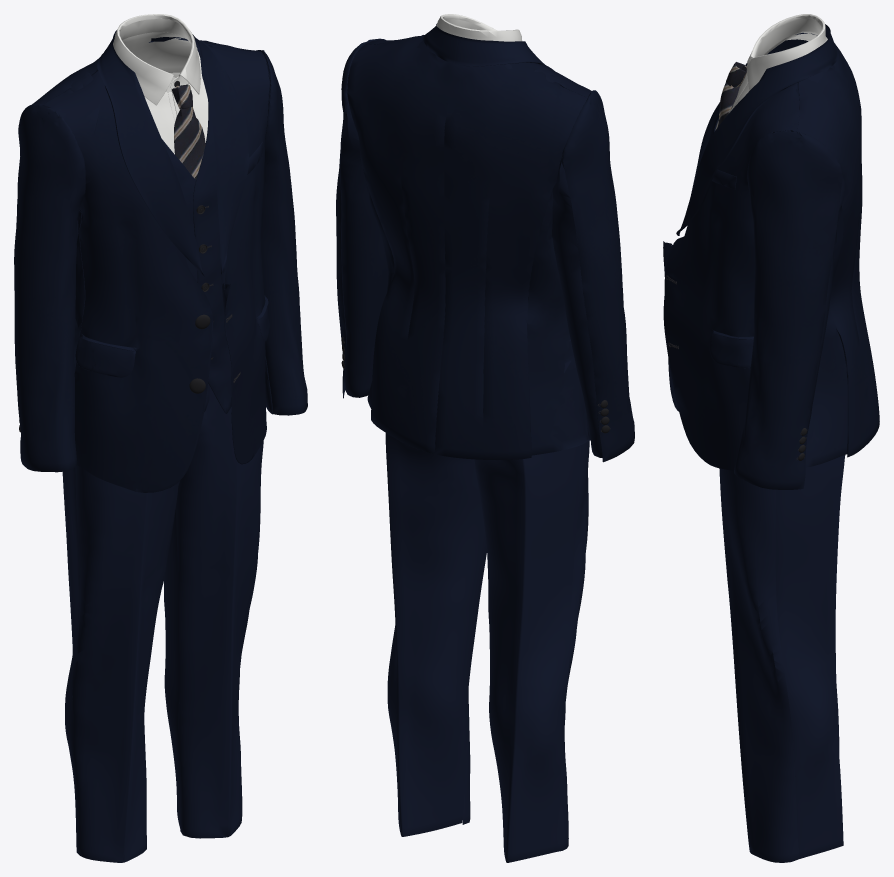
Rendered from MW_Tailleur_suit_v4_SHAWL_step2_frontcut.glb.
The picture shows the model from 3 angles, left to right: view 1: azimuth 30°, elevation 25°; view 2: azimuth 150°, elevation 25°; view 3: azimuth 270°, elevation 25°; orthographic projection. The views are drawn at different scales.
Parts seen in each view (by area): view 1: Jacket, Trousers, Shirt, Waistcoat, Tie, Trim; view 2: Jacket, Trousers, Shirt; view 3: Jacket, Trousers, Shirt, Tie.
Boxes of the visible parts, box(x1,y1,x2,y2) form: Jacket: box(14, 30, 307, 492); Trousers: box(62, 383, 263, 862); Shirt: box(113, 14, 208, 154); Waistcoat: box(75, 42, 231, 413); Tie: box(172, 84, 205, 179); Trim: box(19, 81, 210, 432); Jacket: box(336, 23, 634, 462); Trousers: box(385, 339, 589, 862); Shirt: box(436, 14, 522, 41); Jacket: box(663, 24, 879, 489); Trousers: box(719, 455, 845, 862); Shirt: box(715, 14, 827, 130); Tie: box(717, 62, 746, 127).
Size of the model in its own units: 0.5389 by 1.5 by 0.3678.
Materials: 8 (4 with a texture image).
